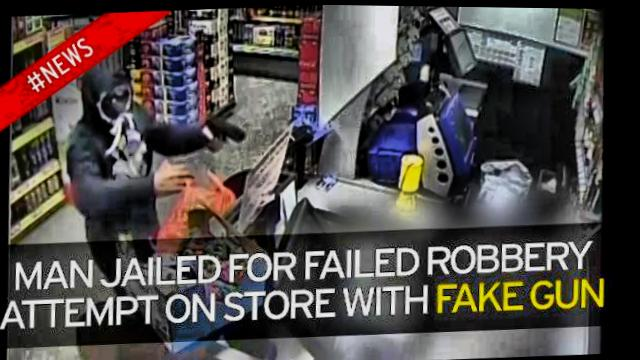pistol: (199, 104, 246, 150)
